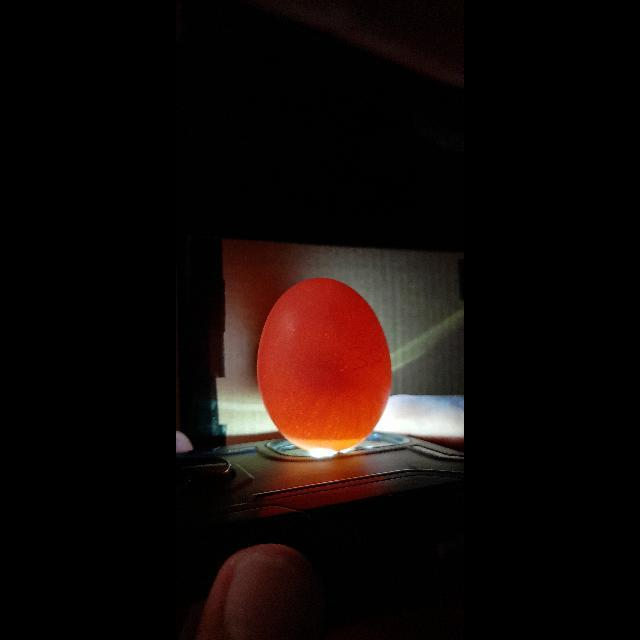Fertile: (248, 264, 398, 460)
